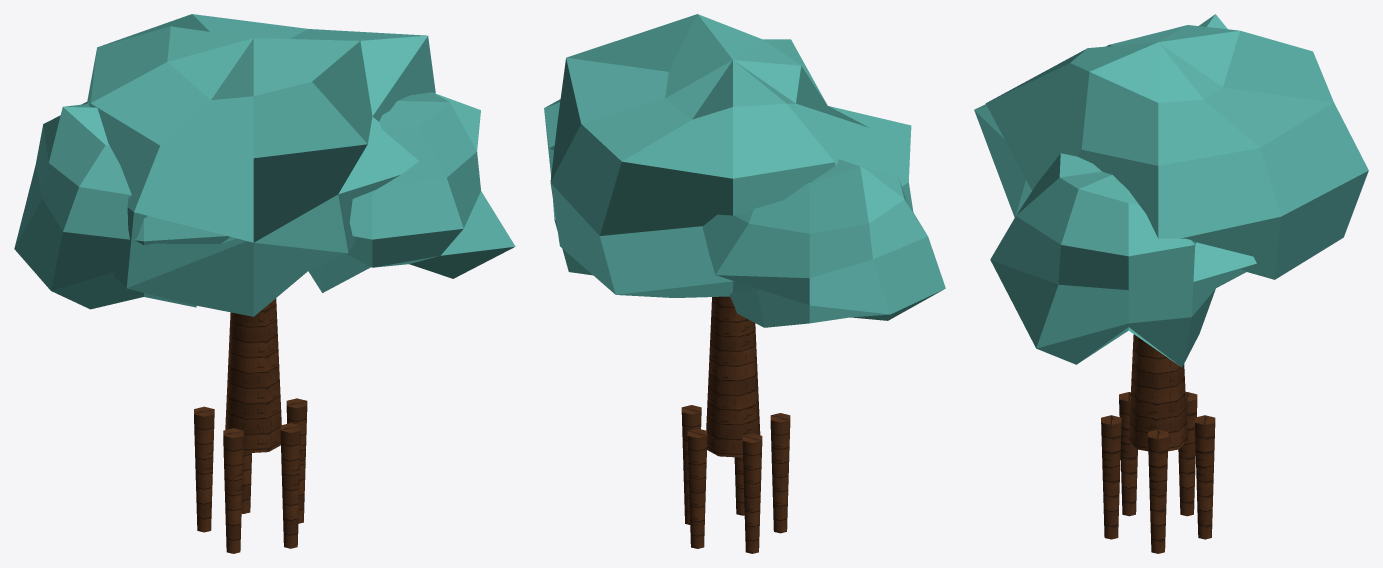
Rendered from mangrove.glb.
The picture shows the model from 3 angles, left to right: view 1: azimuth 30°, elevation 25°; view 2: azimuth 150°, elevation 25°; view 3: azimuth 270°, elevation 25°; orthographic projection. The views are drawn at different scales.
Parts seen in each view (by area): view 1: mangrove; view 2: mangrove; view 3: mangrove.
Boxes of the visible parts, x1=… form: mangrove: x1=14, y1=14, x2=515, y2=553; mangrove: x1=544, y1=14, x2=945, y2=553; mangrove: x1=974, y1=14, x2=1368, y2=553.
Size of the model in its own units: 4.92 by 5.52 by 4.01.
Materials: 2 (1 with a texture image).
